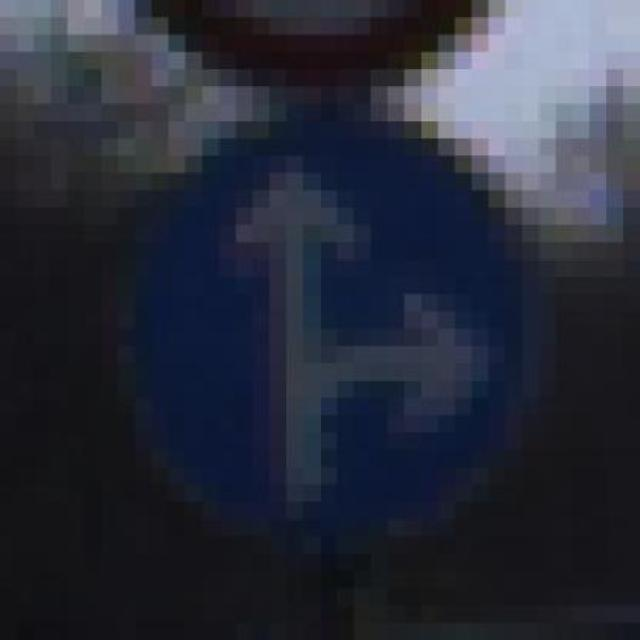Go Straight or Turn Right: (84, 86, 556, 571)
